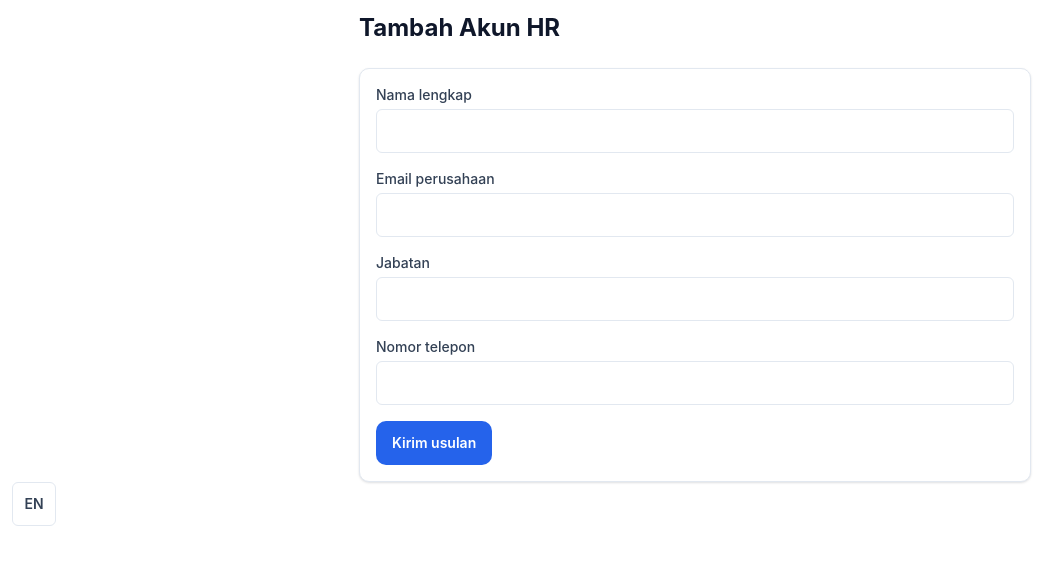
HrAddPage › keeps the typed values and flags the address on a 409 EMAIL_TAKEN answer
Type "Dewi Lestari" into the field labelled "Nama lengkap" at (695, 131), box 376,109 -> 1014,153
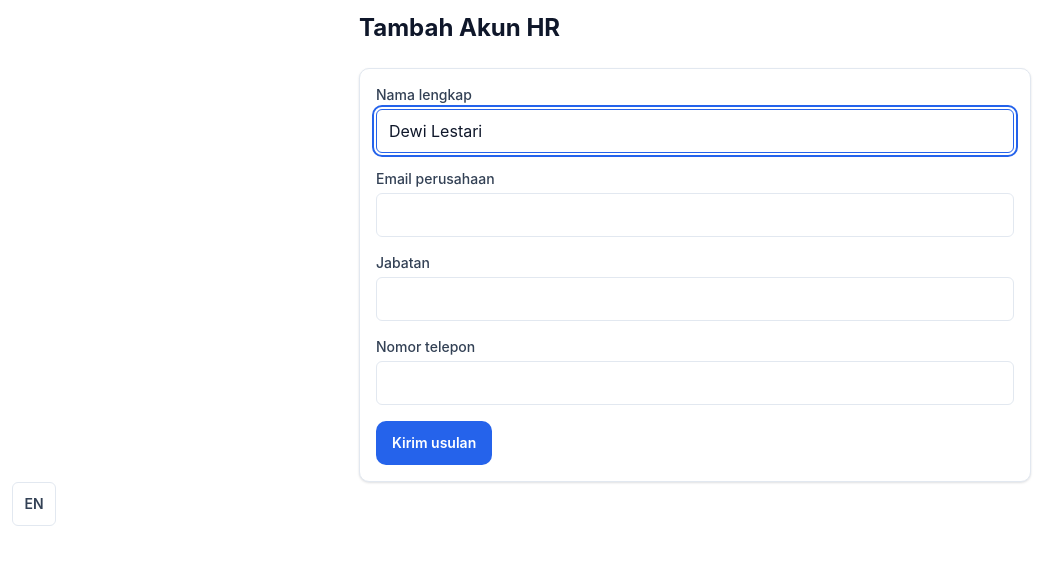
Type "dewi@corp.test" into the field labelled "Email perusahaan" at (695, 215), box 376,193 -> 1014,237
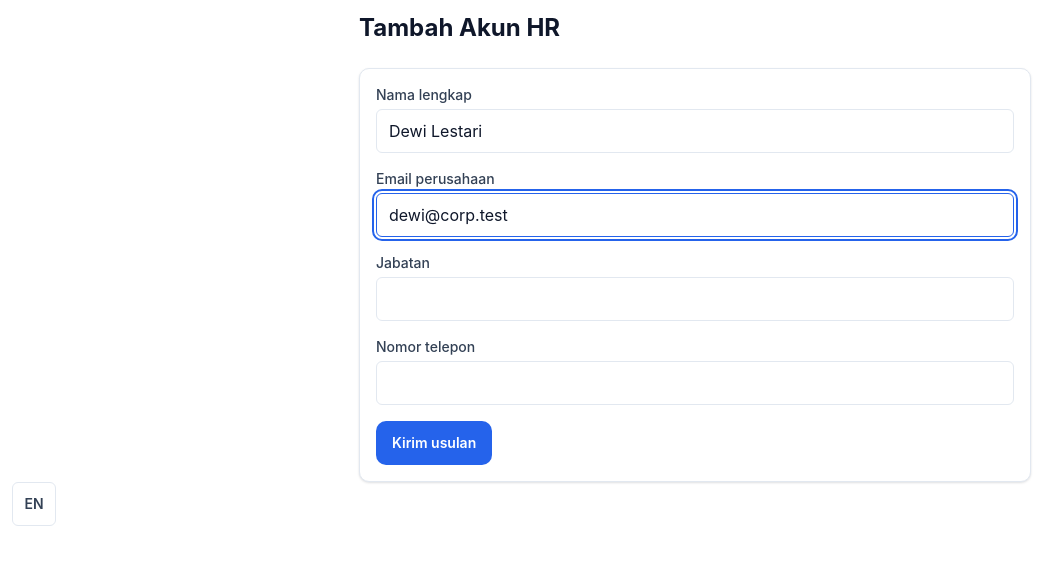
Type "HR Officer" into the field labelled "Jabatan" at (695, 299), box 376,277 -> 1014,321
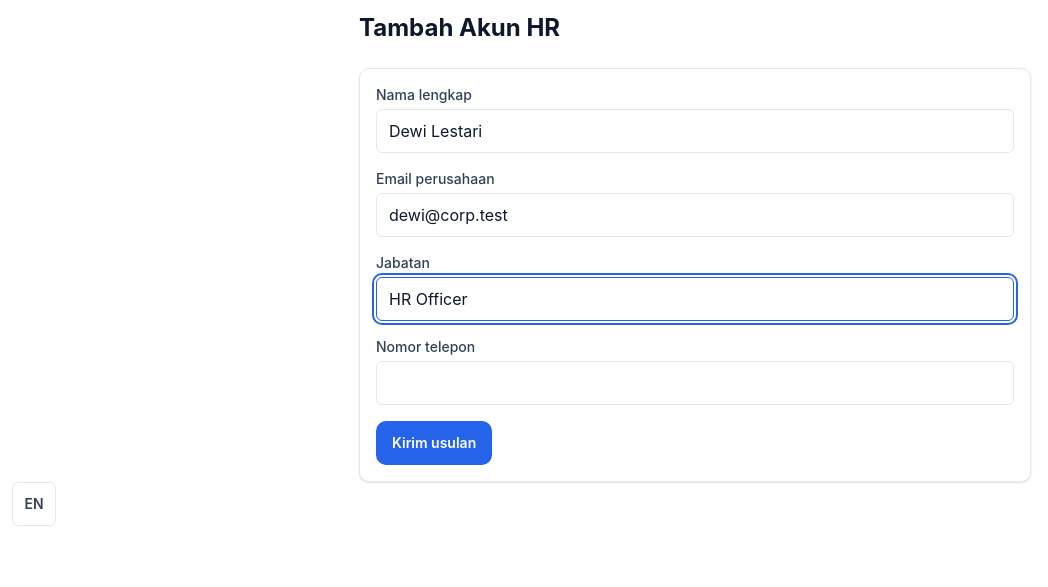
Type "081200000009" into the field labelled "Nomor telepon" at (695, 383), box 376,361 -> 1014,405
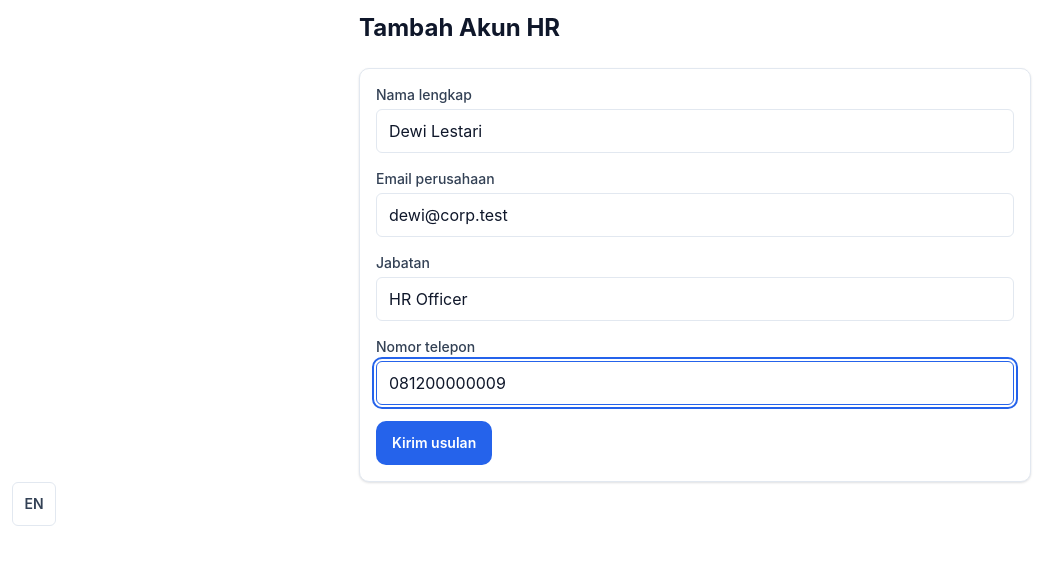
Click the button with test id "hr-add-submit" at (434, 443), box 376,421 -> 492,465
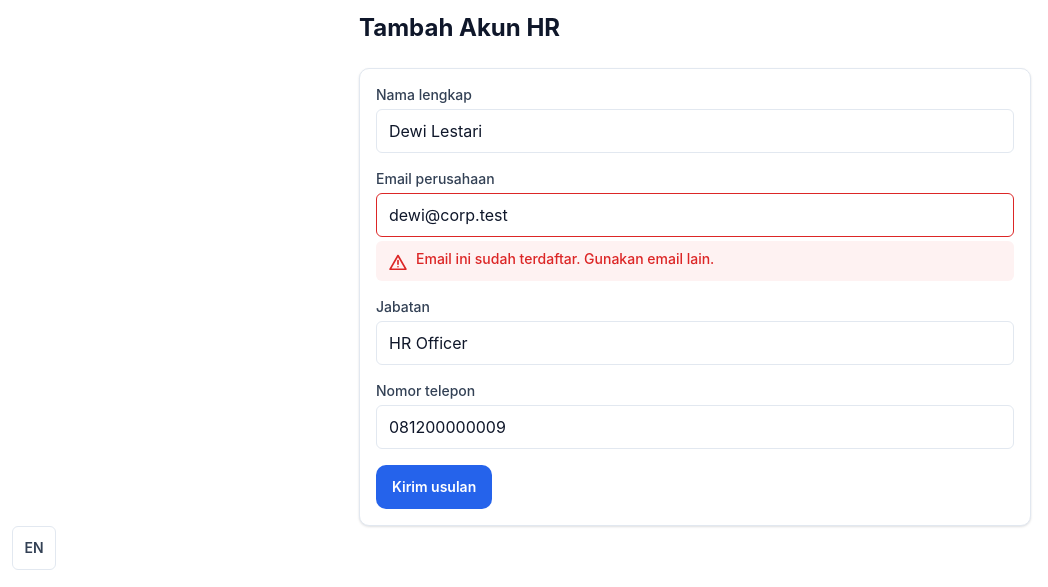
Result: the message with test id "hr-add-error-email" reads "Email ini sudah terdaftar. Gunakan email lain." at 416,250 -> 714,267
